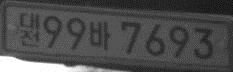3: (192, 26, 214, 60)
6: (144, 23, 165, 57)
7: (120, 20, 142, 54)
9: (168, 25, 190, 57), (66, 16, 86, 50), (43, 14, 62, 48)
대전_V: (19, 11, 41, 48)
바: (89, 20, 110, 52)
